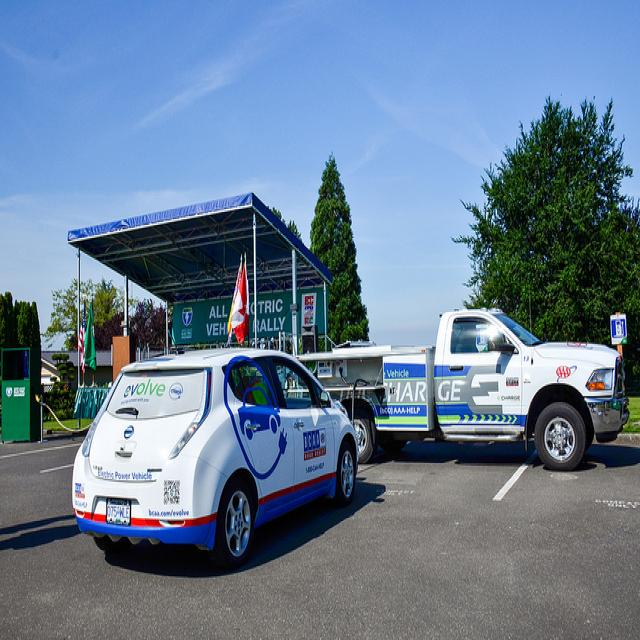Vehicle: (70, 346, 360, 564), (346, 314, 636, 464)
